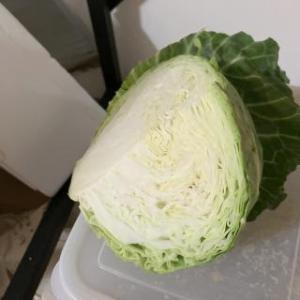cabbage: (68, 28, 300, 276)
